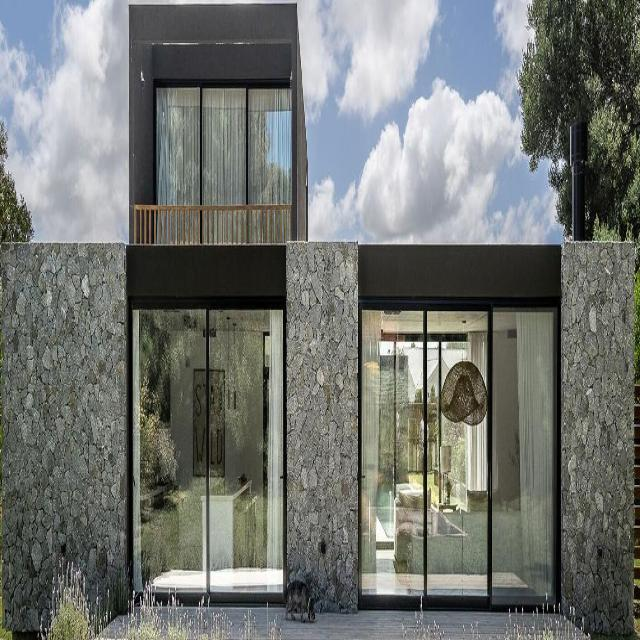door: (357, 305, 559, 608), (139, 303, 285, 602)
railing: (133, 203, 291, 250)
window: (152, 88, 292, 244)
